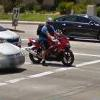Motorcycle: (23, 26, 86, 67)
